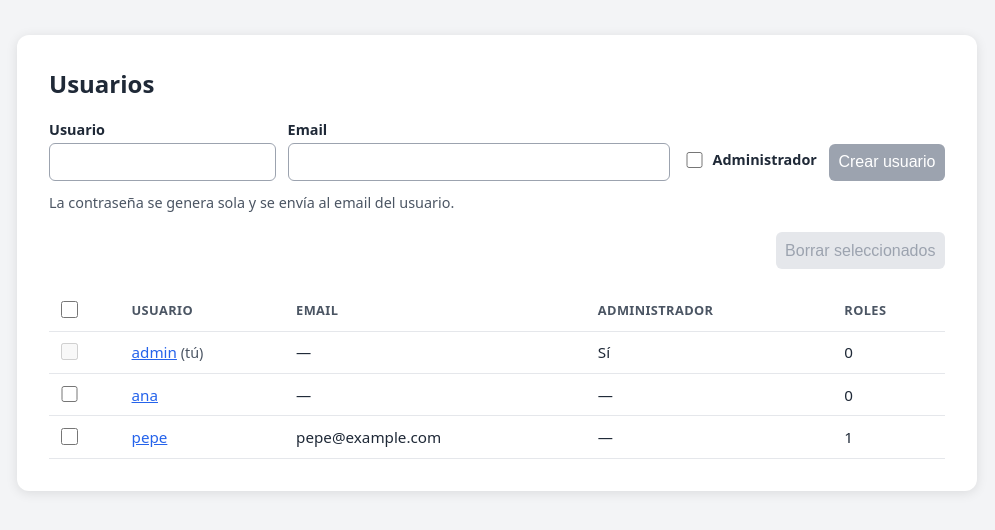
it: Usuarios (listado y alta) › si el correo falla muestra el 502 y conserva lo escrito
Type "lucia" into the field labelled "Usuario" at {"x": 162, "y": 162}, box [49,143,276,181]
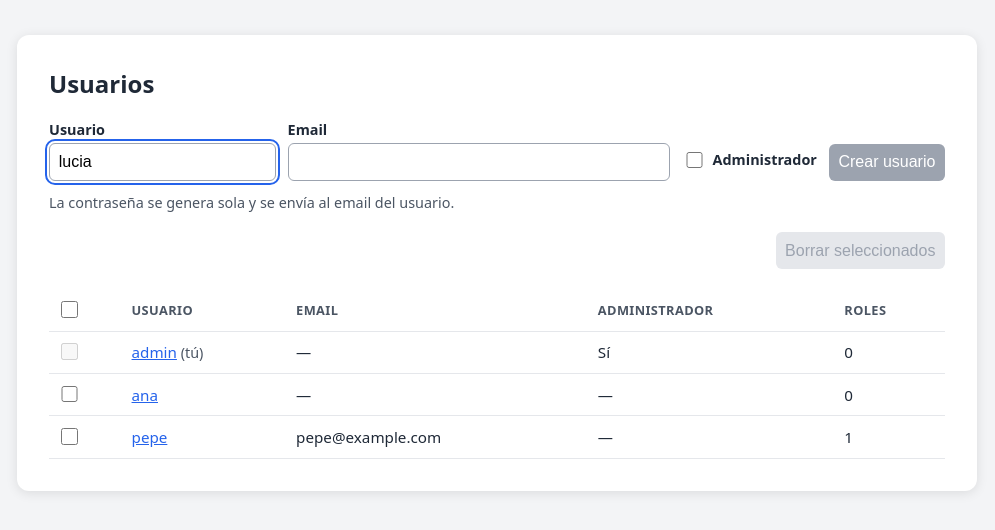
Type "lucia@example.com" into the field labelled "Email" at {"x": 479, "y": 162}, box [288,143,670,181]
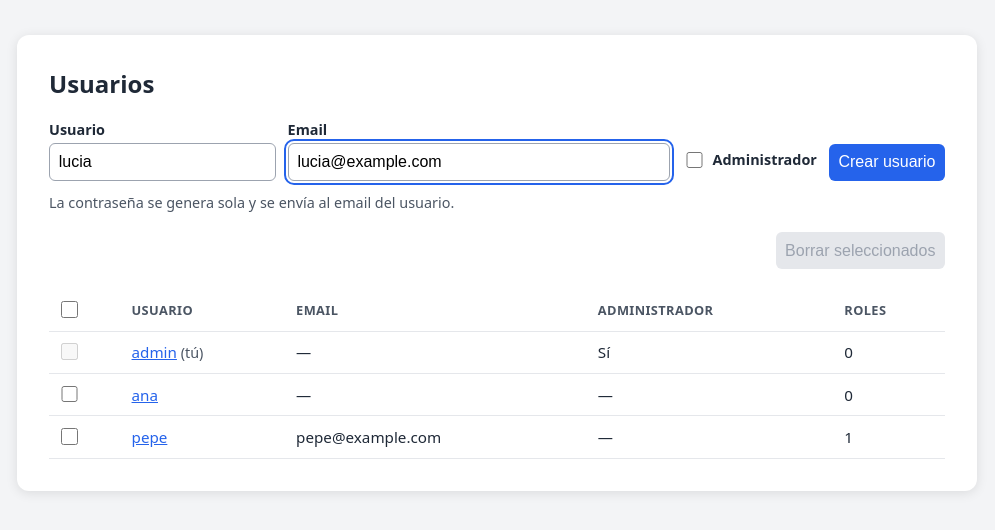
Click the button "Crear usuario" at {"x": 887, "y": 162}, box [829,144,945,181]
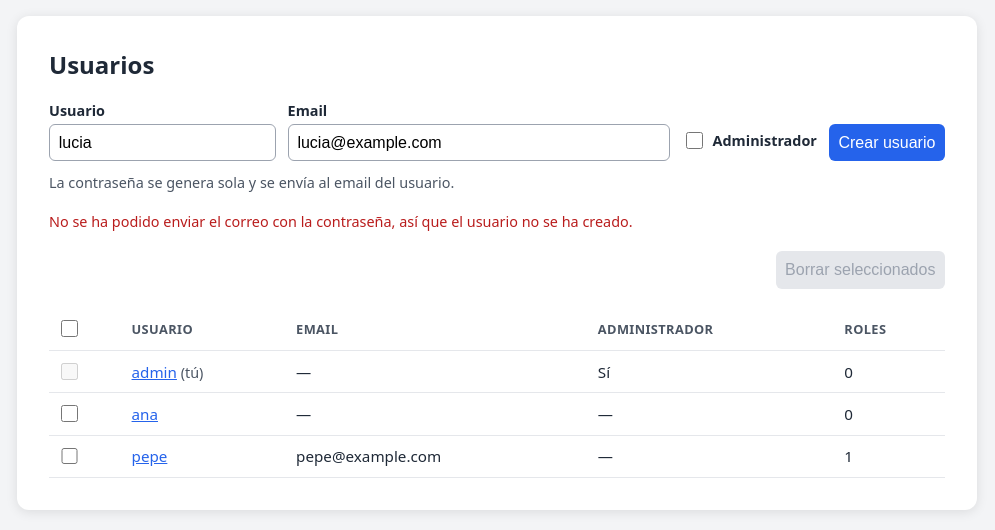
Check: the message shows "el usuario no se ha creado", box [49,212,633,231]
